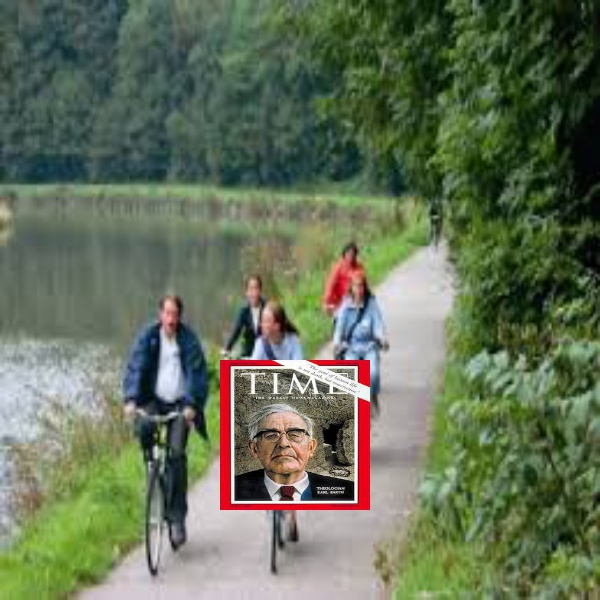time_cover: (218, 350, 372, 501)
